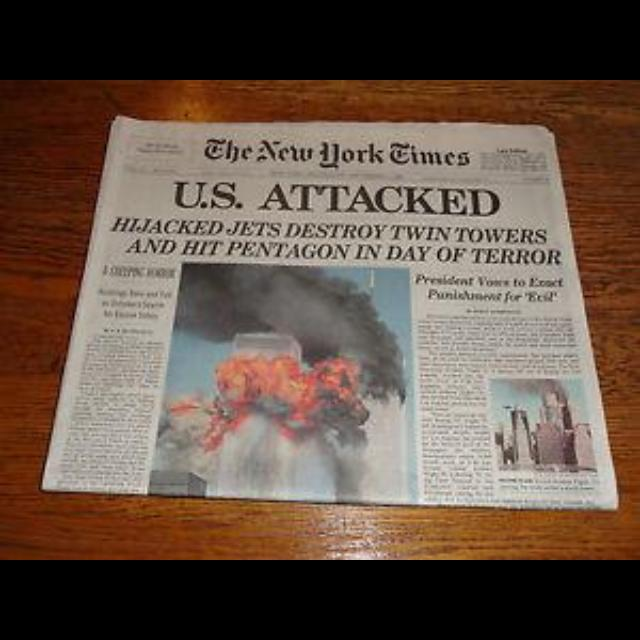papel: (38, 114, 620, 512)
